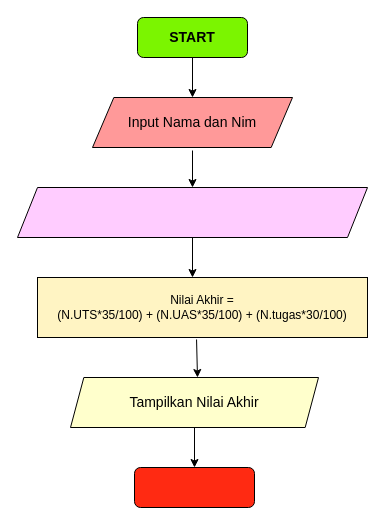
Image size: 385x525. Some labels were removed from this diagram. The shapes that lost their labels are listed below. From the top down, each one's centre as x and y in pixels, then its label:
the point at 192,212: Input Kehadiran, Nilai tugas, UTS, UAS,tugas Akhir
the point at 194,487: END
